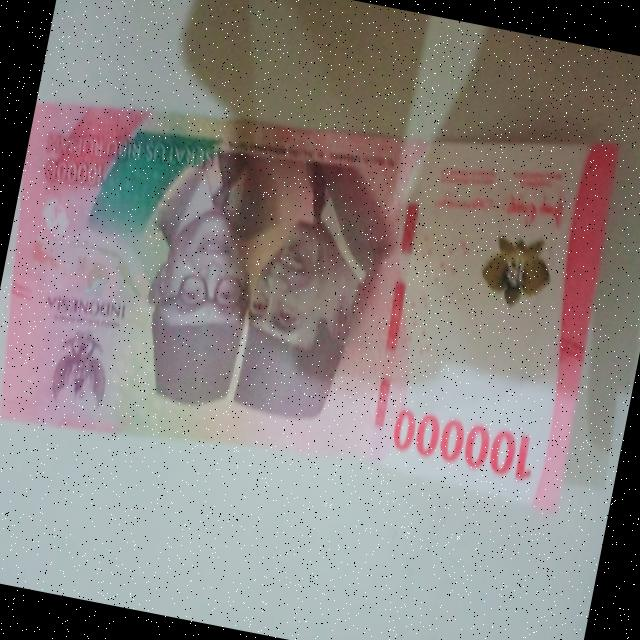100K: (0, 25, 634, 536)
